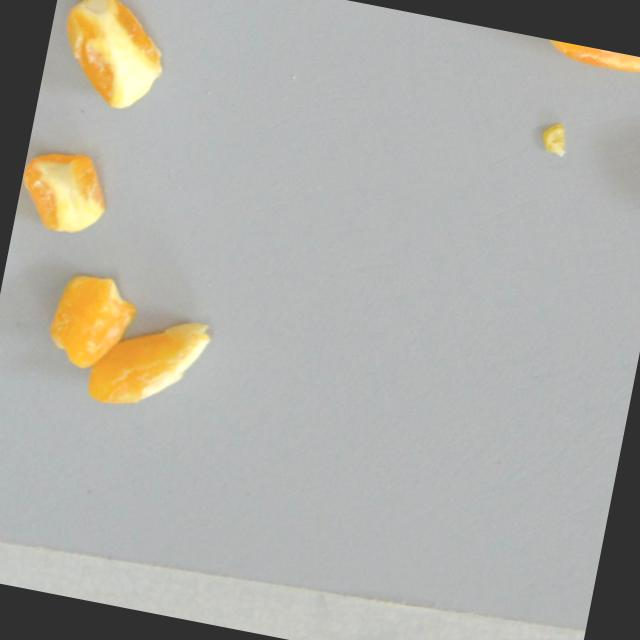pelicula: (45, 0, 180, 122), (80, 300, 212, 424), (41, 266, 141, 378), (12, 142, 115, 243), (533, 36, 640, 76)
